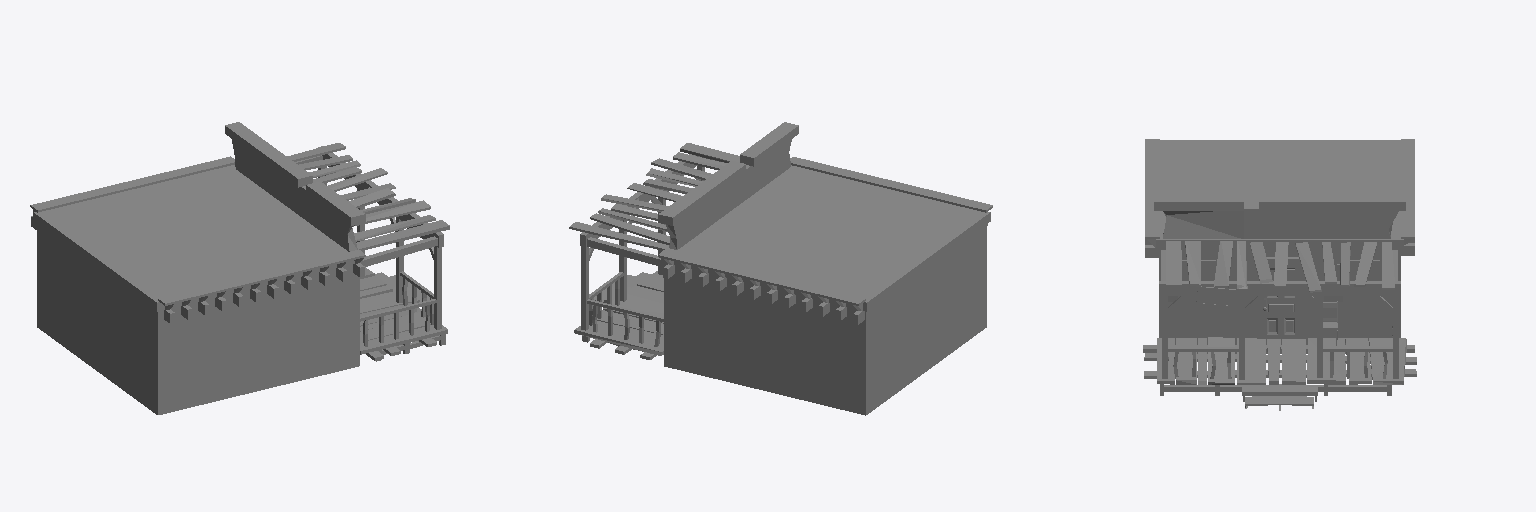
Rendered from sheriff.obj.
3 views of the same model, side by side, from view 1: azimuth 30°, elevation 25°; view 2: azimuth 150°, elevation 25°; view 3: azimuth 270°, elevation 25° (orthographic).
Visible parts, largest first — view 1: SheriffsOfficeCombined; view 2: SheriffsOfficeCombined; view 3: SheriffsOfficeCombined.
Part boxes in pixels (bbox=[...]): SheriffsOfficeCombined: bbox=[30, 122, 449, 414]; SheriffsOfficeCombined: bbox=[569, 122, 992, 415]; SheriffsOfficeCombined: bbox=[1143, 139, 1416, 410].
Size of the model in its own units: 367 by 167 by 271.